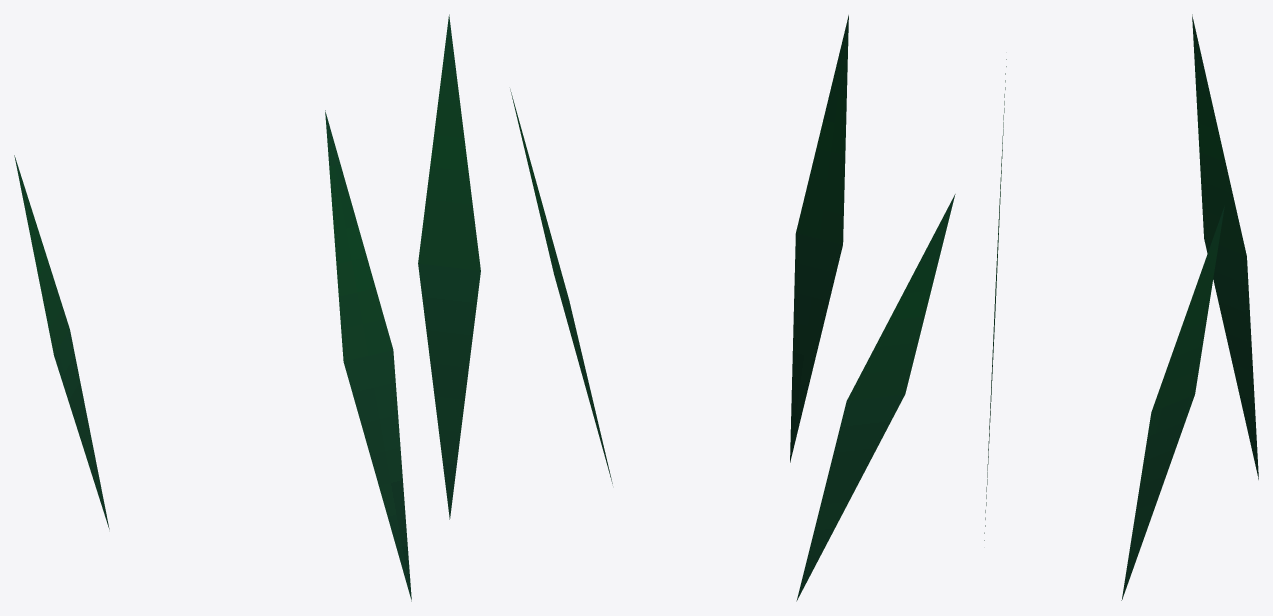
The model's file is plants_me_dlc1_main_grass121.gltf.
The picture shows the model from 3 angles, left to right: view 1: azimuth 30°, elevation 25°; view 2: azimuth 150°, elevation 25°; view 3: azimuth 270°, elevation 25°; orthographic projection. The views are drawn at different scales.
Parts seen in each view (by area): view 1: plants_me_dlc1_main_grass121_mesh_shape:plants_me_dlc1_main_; view 2: plants_me_dlc1_main_grass121_mesh_shape:plants_me_dlc1_main_; view 3: plants_me_dlc1_main_grass121_mesh_shape:plants_me_dlc1_main_.
Boxes of the visible parts, bbox=[...] form: plants_me_dlc1_main_grass121_mesh_shape:plants_me_dlc1_main_: bbox=[14, 14, 480, 601]; plants_me_dlc1_main_grass121_mesh_shape:plants_me_dlc1_main_: bbox=[510, 15, 955, 601]; plants_me_dlc1_main_grass121_mesh_shape:plants_me_dlc1_main_: bbox=[984, 14, 1258, 600].
Size of the model in its own units: 0.4252 by 0.45 by 0.24.
Materials: 1 (1 with a texture image).
